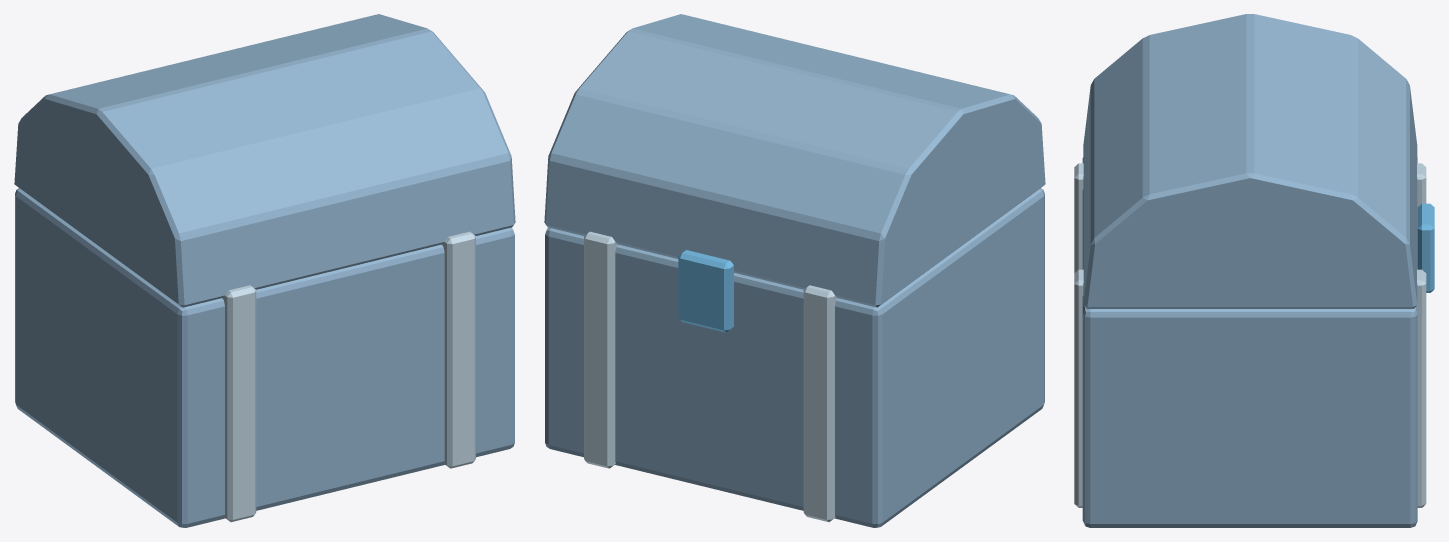
Rendered from frozen_chest_v0.glb.
3 renders of one model, left to right at view 1: azimuth 30°, elevation 25°; view 2: azimuth 150°, elevation 25°; view 3: azimuth 270°, elevation 25°, orthographic.
Parts seen in each view (by area): view 1: frozen_chest_v0; view 2: frozen_chest_v0; view 3: frozen_chest_v0.
Boxes of the visible parts, x1=… form: frozen_chest_v0: x1=14, y1=14, x2=515, y2=527; frozen_chest_v0: x1=544, y1=14, x2=1045, y2=527; frozen_chest_v0: x1=1074, y1=14, x2=1434, y2=527.
Bounding box in the file's own units: 0.92 × 0.9377 × 0.86.
